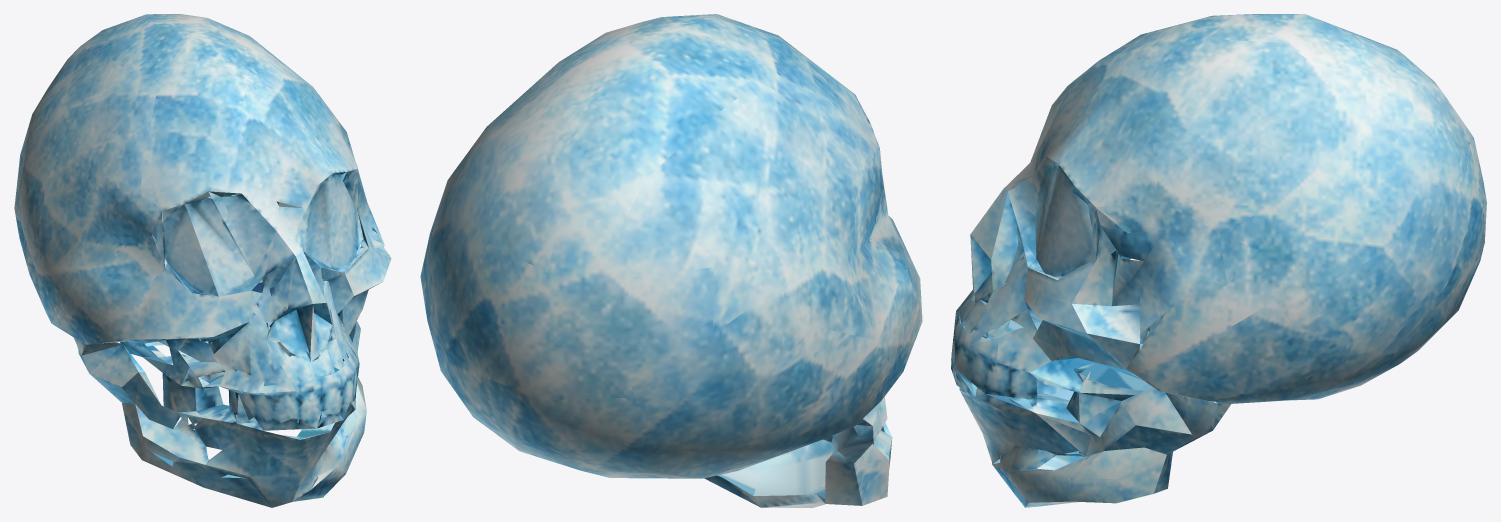
Rendered from item_crysskull.glb.
The picture shows the model from 3 angles, left to right: view 1: azimuth 30°, elevation 25°; view 2: azimuth 150°, elevation 25°; view 3: azimuth 270°, elevation 25°; orthographic projection. The views are drawn at different scales.
Parts seen in each view (by area): view 1: sculpture_crysskull; view 2: sculpture_crysskull; view 3: sculpture_crysskull.
Boxes of the visible parts, x1=… form: sculpture_crysskull: x1=14, y1=14, x2=391, y2=507; sculpture_crysskull: x1=420, y1=14, x2=922, y2=507; sculpture_crysskull: x1=951, y1=14, x2=1486, y2=507.
Size of the model in its own units: 0.7506 by 0.9737 by 0.9985.
Materials: 1 (1 with a texture image).
